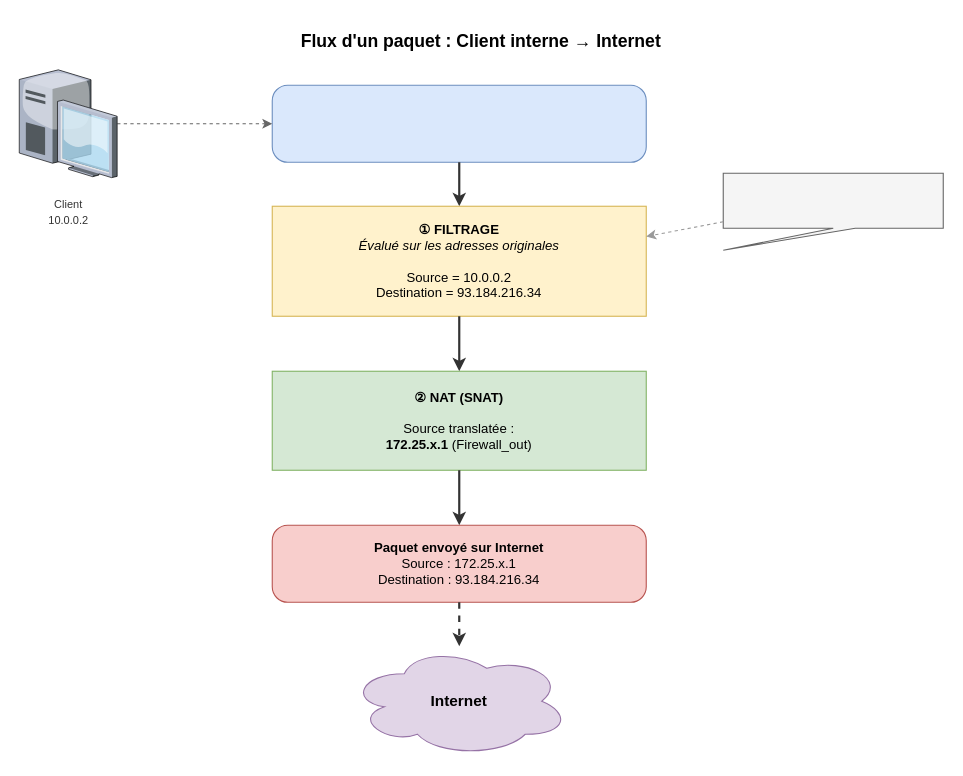
Image size: 963x776. Some labels were removed from this diagram. Each missing label, with the centre of its shape:
Le filtrage s'applique AVANT la translation d'adresse: (x=832, y=211)
Paquet émis par le client interne Source : 10.0.0.2 Destination : 93.184.216.34: (x=458, y=123)
